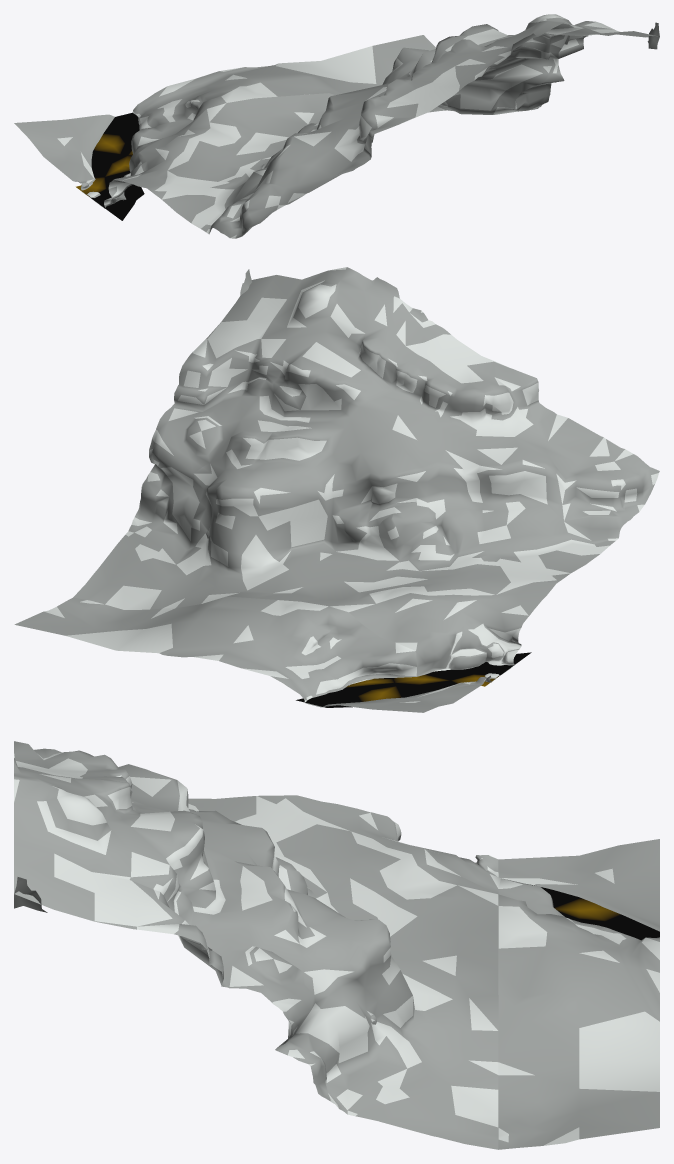
The picture shows the model from 3 angles, top to bottom: view 1: azimuth 30°, elevation 25°; view 2: azimuth 150°, elevation 25°; view 3: azimuth 270°, elevation 25°; orthographic projection. The views are drawn at different scales.
Parts seen in each view (by area): view 1: G:\FFXIV-MapTools\exports\f1f3\bg\ffxiv\fst_f1\fld\f1f3\bgpl (×16); view 2: G:\FFXIV-MapTools\exports\f1f3\bg\ffxiv\fst_f1\fld\f1f3\bgpl (×19); view 3: G:\FFXIV-MapTools\exports\f1f3\bg\ffxiv\fst_f1\fld\f1f3\bgpl (×17).
Boxes of the visible parts, bbox=[...] form: G:\FFXIV-MapTools\exports\f1f3\bg\ffxiv\fst_f1\fld\f1f3\bgpl (×16): bbox=[14, 14, 659, 238]; G:\FFXIV-MapTools\exports\f1f3\bg\ffxiv\fst_f1\fld\f1f3\bgpl (×19): bbox=[14, 267, 659, 712]; G:\FFXIV-MapTools\exports\f1f3\bg\ffxiv\fst_f1\fld\f1f3\bgpl (×17): bbox=[14, 741, 659, 1149].
Size of the model in its own units: 128 by 66.97 by 128.
